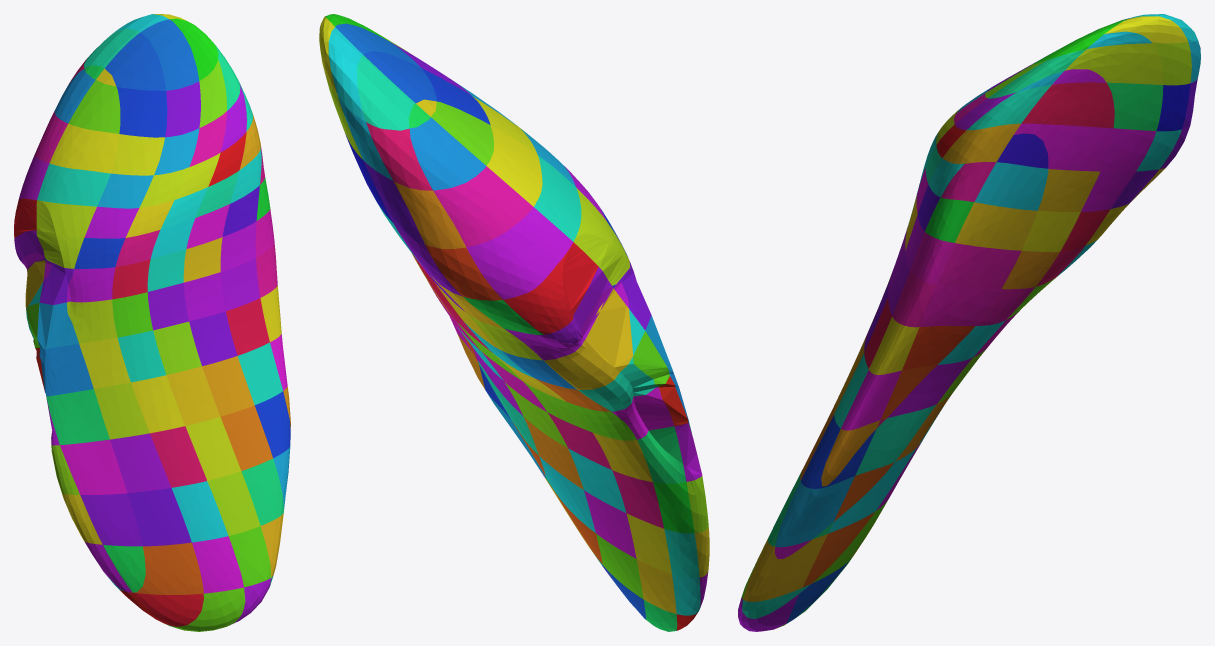
File: kidney-male-right-vu-v1.0.glb
3 renders of one model, left to right at view 1: azimuth 30°, elevation 25°; view 2: azimuth 150°, elevation 25°; view 3: azimuth 270°, elevation 25°, orthographic. The views are drawn at different scales.
Visible parts, largest first — view 1: world; view 2: world; view 3: world.
Part boxes in pixels (x1,y1,x2,y2): world: [14, 14, 290, 631]; world: [319, 14, 709, 631]; world: [738, 14, 1200, 631].
Bounding box in the file's own units: 0.0452 × 0.096 × 0.0596.
